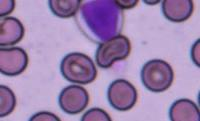L: (76, 0, 123, 44)
